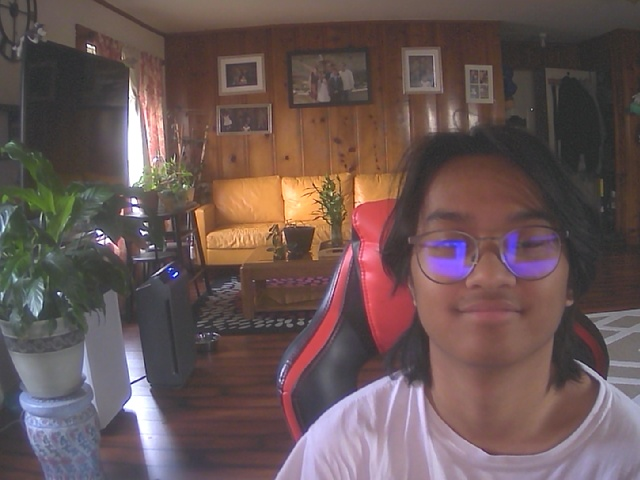happy: (402, 137, 584, 369)
